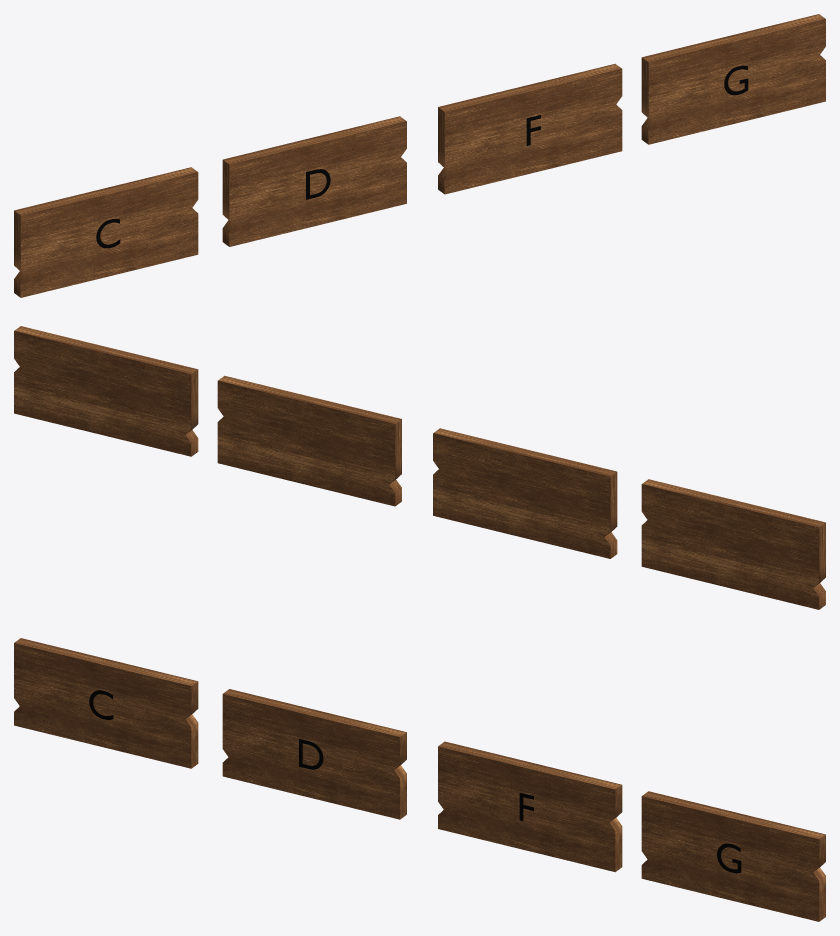
The model's file is Carteles.fbx.
3 renders of one model, top to bottom at view 1: azimuth 30°, elevation 25°; view 2: azimuth 150°, elevation 25°; view 3: azimuth 330°, elevation 25°, orthographic.
Visible parts, largest first — view 1: defaultMaterial.001, defaultMaterial, defaultMaterial.002, defaultMaterial.003; view 2: defaultMaterial.001, defaultMaterial, defaultMaterial.002, defaultMaterial.003; view 3: defaultMaterial.002, defaultMaterial.003, defaultMaterial.001, defaultMaterial.
Part boxes in pixels (left/top/right/bottom): defaultMaterial.001: left=438, top=63, right=622, bottom=194; defaultMaterial: left=222, top=116, right=406, bottom=246; defaultMaterial.002: left=14, top=167, right=198, bottom=297; defaultMaterial.003: left=641, top=14, right=825, bottom=144; defaultMaterial.001: left=217, top=375, right=401, bottom=506; defaultMaterial: left=433, top=428, right=617, bottom=558; defaultMaterial.002: left=641, top=479, right=825, bottom=609; defaultMaterial.003: left=14, top=326, right=198, bottom=456; defaultMaterial.002: left=14, top=638, right=198, bottom=768; defaultMaterial.003: left=641, top=791, right=825, bottom=921; defaultMaterial.001: left=438, top=741, right=622, bottom=872; defaultMaterial: left=222, top=689, right=406, bottom=819.
Size of the model in its own units: 2065 by 202 by 30.99.
